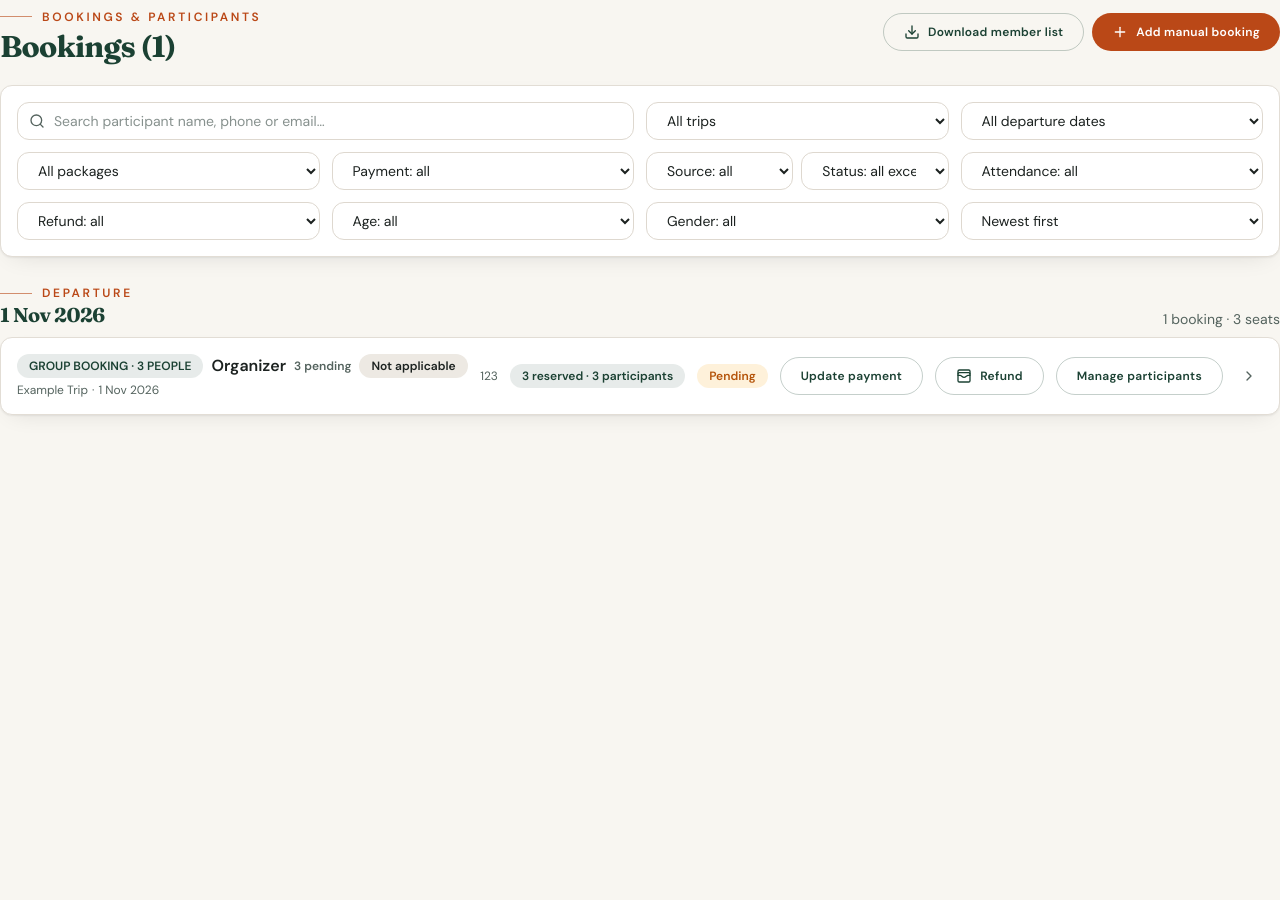
Scenario: group participant controls › shows both decisions for each pending person and updates only the chosen member
The image size is (1280, 900).
Later steps or results of the test are not shown.
Click the button "Manage participants".
click(1139, 376)  # box [1056,357,1223,395]
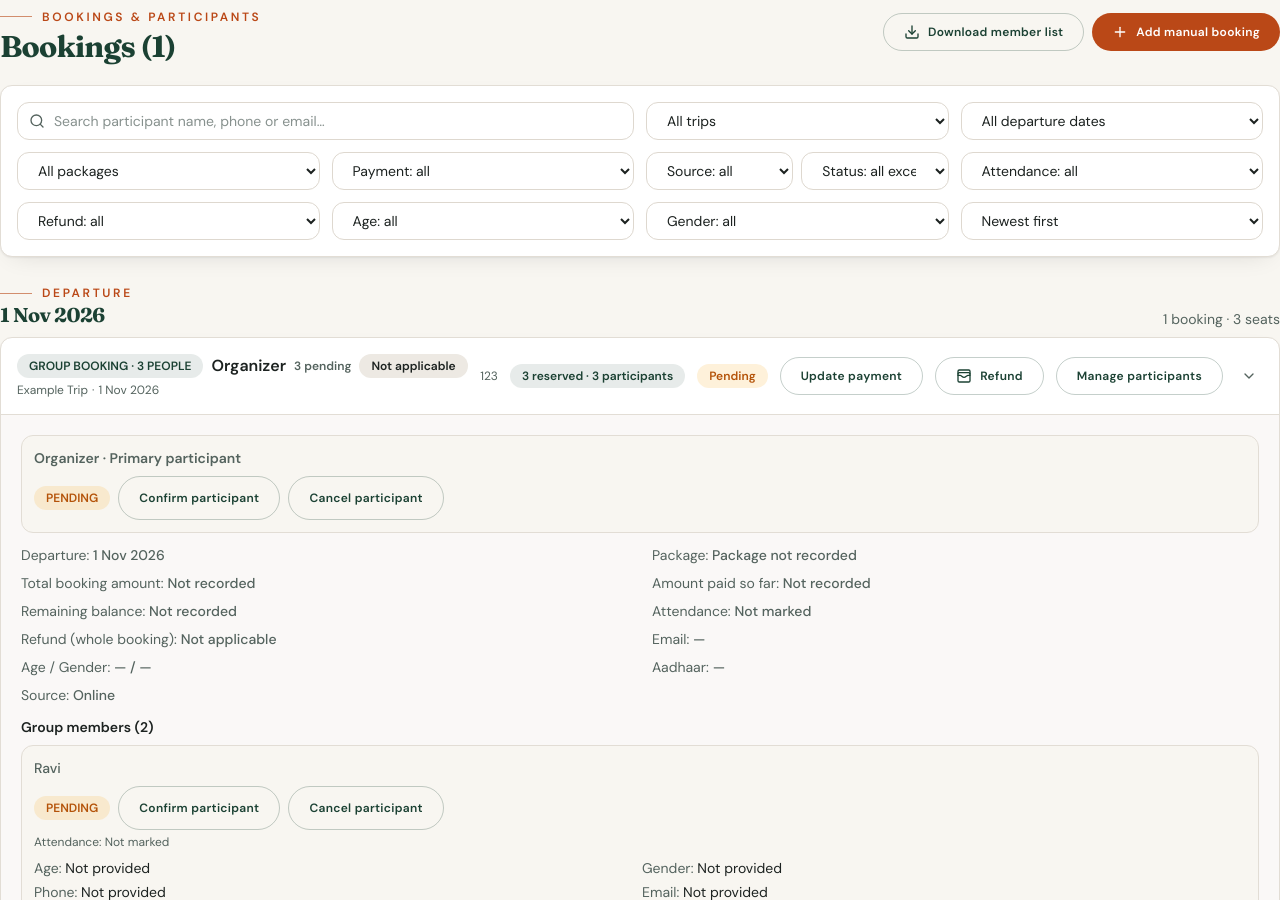
Expected: the button with aria-label "Confirm participant Organizer" is shown, [118,476,280,520]
Expected: the button with aria-label "Confirm participant Ravi" is shown
Click the button with aria-label "Confirm participant Ravi".
click(199, 808)  # box [118,786,280,830]
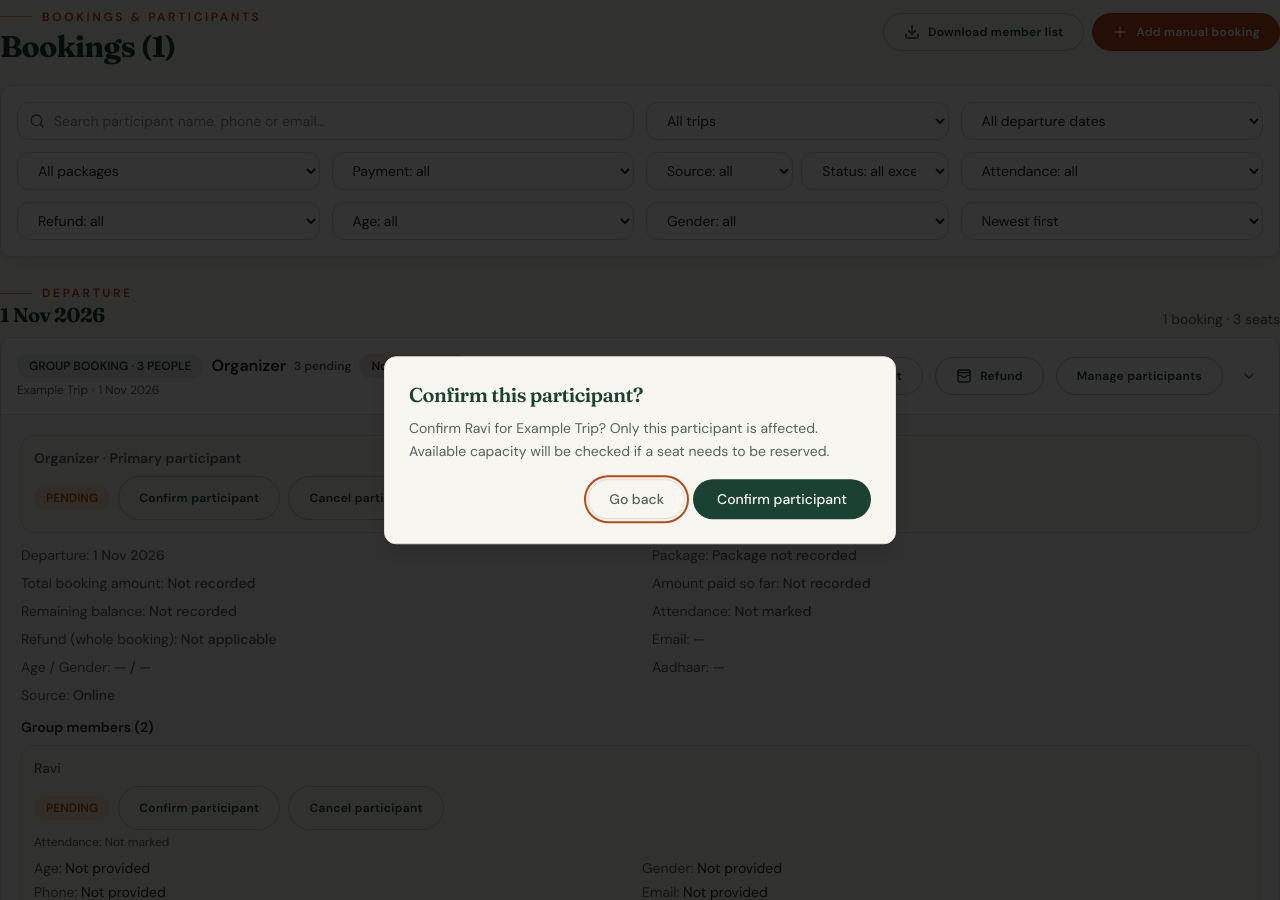
Expected: the dialog shows "Only this participant is affected", [409,419,829,460]
